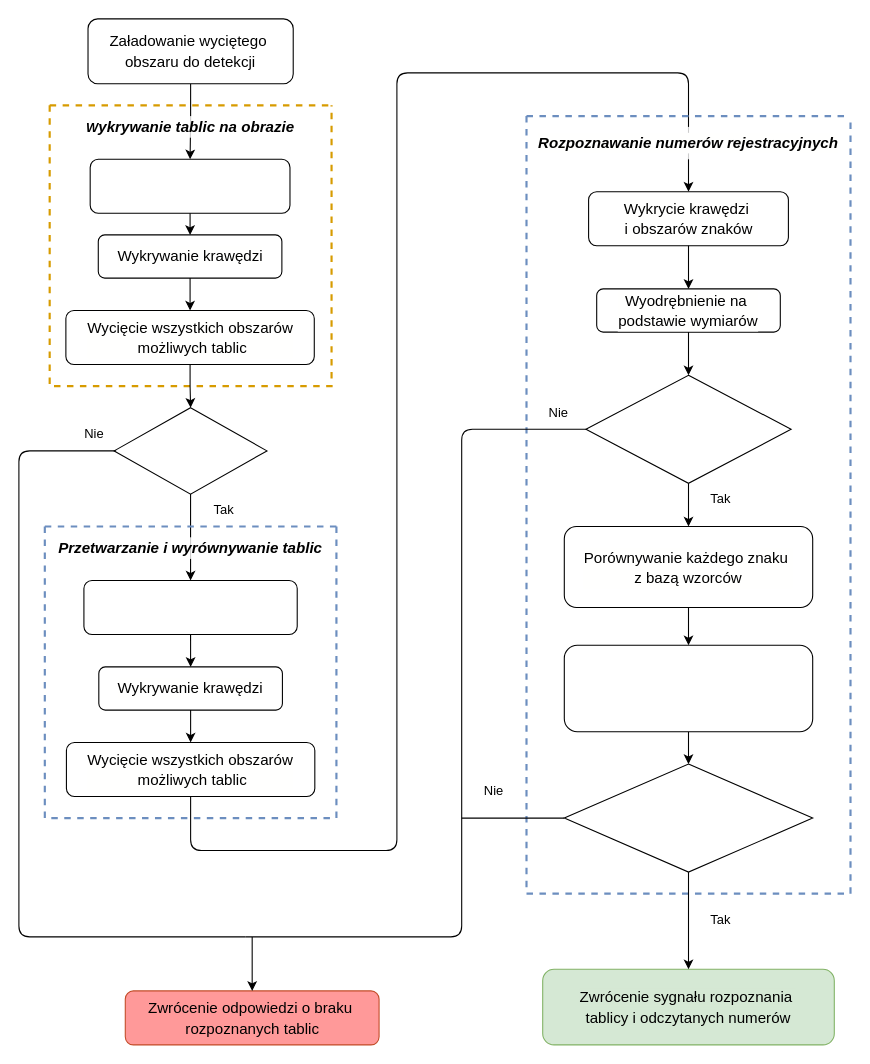
The diagram is 870 pixels wide and 1064 high, and some of its shapes have lost their labels. The shapes that lost their labels are listed below. From the top down, each one's centre as x and y in pixels, then its label:
At (189,185): "Operacje morfologiczne (erozja, dylatacja)".
At (688,428): "Wykryto 7-8 znaków?".
At (190,450): "Wykryto tablicę?".
At (190,606): "Detekcja najdłuższych linii (Hough Transform)".
At (688,688): "Porównywanie odczytanych numerów z bazą samochodów mających możliwość wjazdu".
At (688,817): "Rozpoznano tablicę rejestracyjną?".
